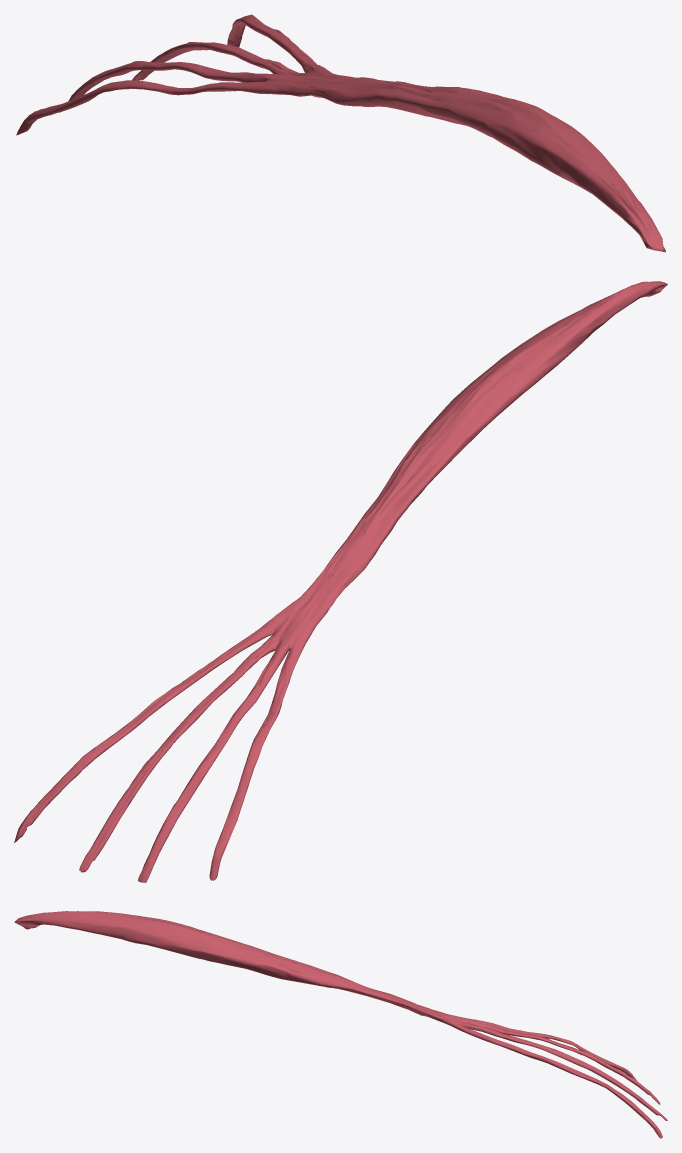
The picture shows the model from 3 angles, top to bottom: view 1: azimuth 30°, elevation 25°; view 2: azimuth 150°, elevation 25°; view 3: azimuth 270°, elevation 25°; orthographic projection. The views are drawn at different scales.
Parts seen in each view (by area): view 1: 左侧指伸肌; view 2: 左侧指伸肌; view 3: 左侧指伸肌.
Part boxes in pixels (x1,y1,x2,y2): 左侧指伸肌: (16, 14, 665, 252); 左侧指伸肌: (14, 281, 667, 882); 左侧指伸肌: (14, 911, 667, 1138).
Size of the model in its own units: 0.1256 by 0.1782 by 0.5814.
